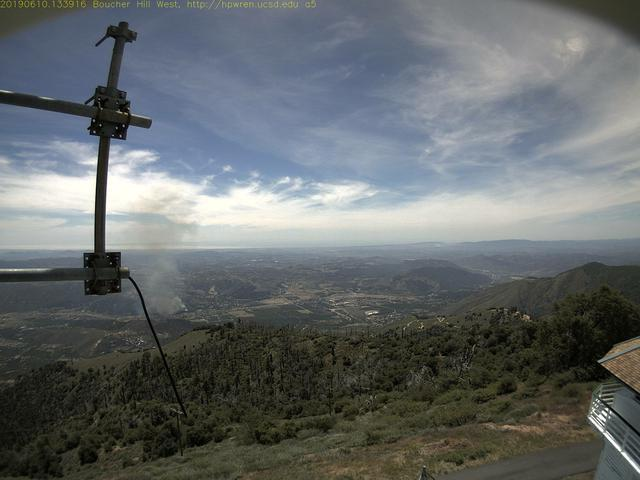smoke: (118, 190, 204, 318)
